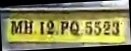character: (9, 19, 23, 35), (69, 20, 81, 35), (23, 19, 34, 35), (92, 20, 102, 36), (102, 20, 112, 36), (59, 20, 69, 35), (83, 20, 93, 35), (45, 19, 54, 35), (111, 20, 120, 36), (38, 20, 45, 35)
